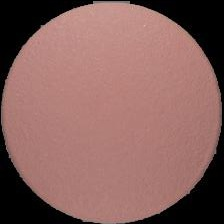55154-6921: (0, 0, 224, 224)
